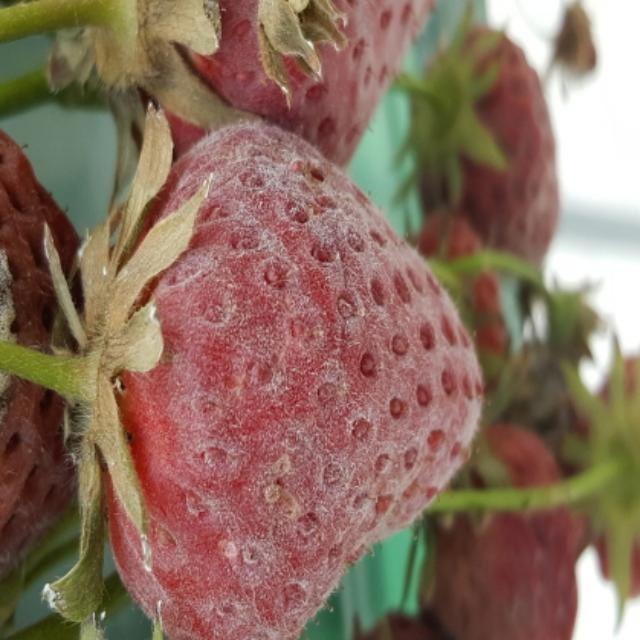Powdery Mildew Fruit: (81, 124, 487, 640), (102, 2, 438, 180), (0, 122, 81, 590)
